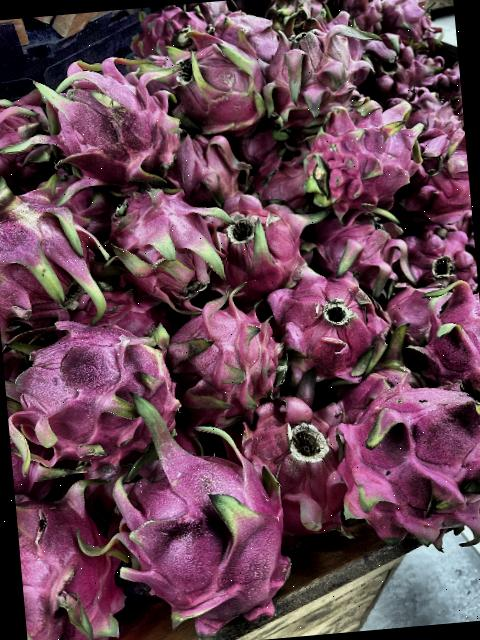buah-naga-belum-matang: (0, 162, 111, 348), (266, 22, 382, 120), (262, 0, 330, 31)
buah-naga-matang: (88, 386, 298, 632), (0, 314, 189, 464), (332, 370, 480, 556), (15, 52, 184, 194), (14, 475, 150, 640), (234, 391, 358, 542), (158, 284, 290, 424), (99, 177, 237, 309), (265, 262, 393, 389), (136, 29, 274, 144), (304, 92, 424, 217), (214, 182, 328, 300), (303, 200, 422, 298), (414, 284, 480, 417), (160, 125, 256, 208), (396, 215, 478, 298), (410, 125, 472, 222), (360, 26, 438, 100), (0, 91, 55, 188), (207, 6, 280, 68), (130, 2, 211, 54), (246, 151, 311, 213), (397, 82, 462, 141), (380, 0, 446, 49), (330, 0, 385, 34)
